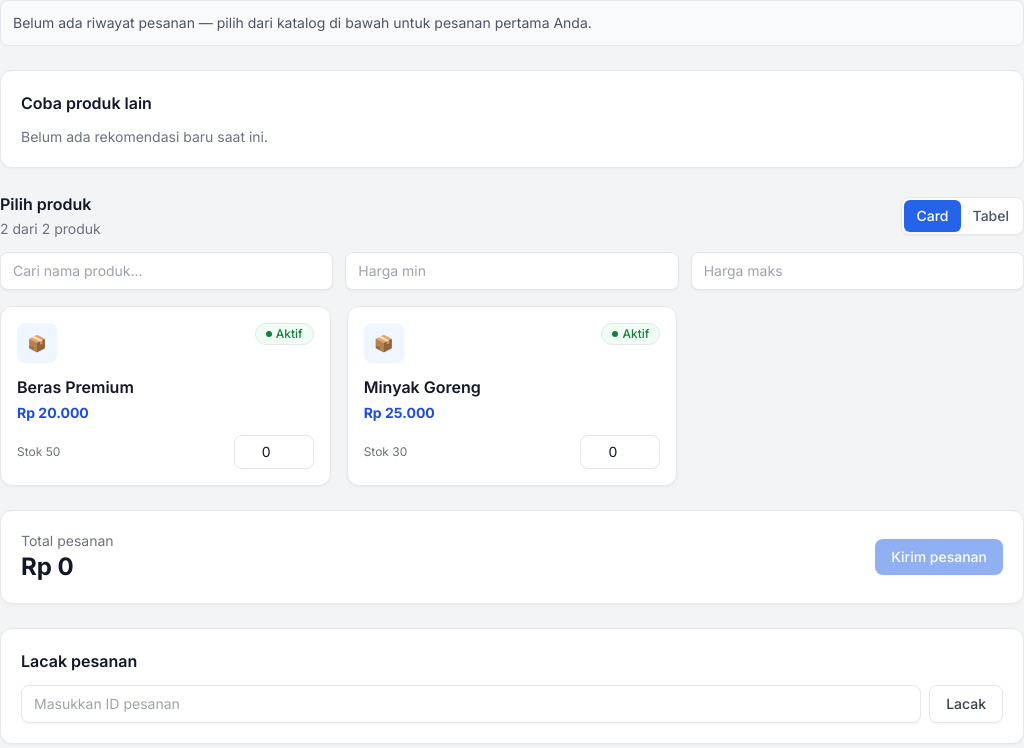
Test case: OrderForm — online submission idempotency contract › submits with the shared idempotency key derived from canonical signature
The width and height of the screenshot is (1024, 748).
Replace the text in the number field named "Jumlah Beras Premium" with "2" at (274, 452), box [234,435,314,469]
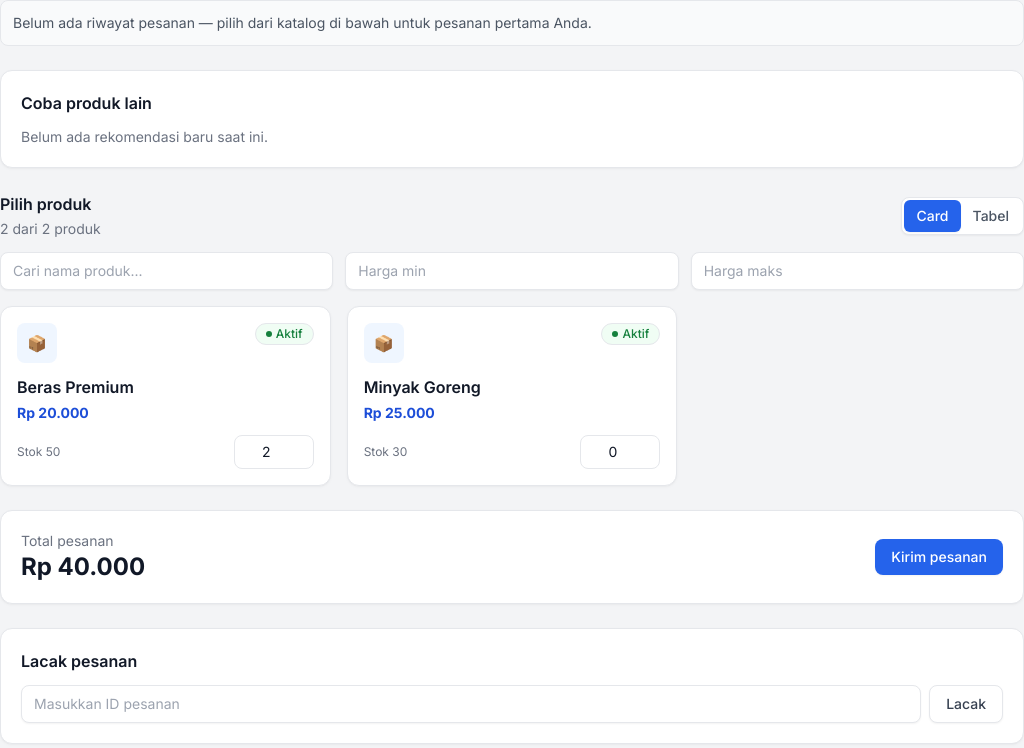
Replace the text in the number field named "Jumlah Minyak Goreng" with "1" at (620, 452), box [580,435,660,469]
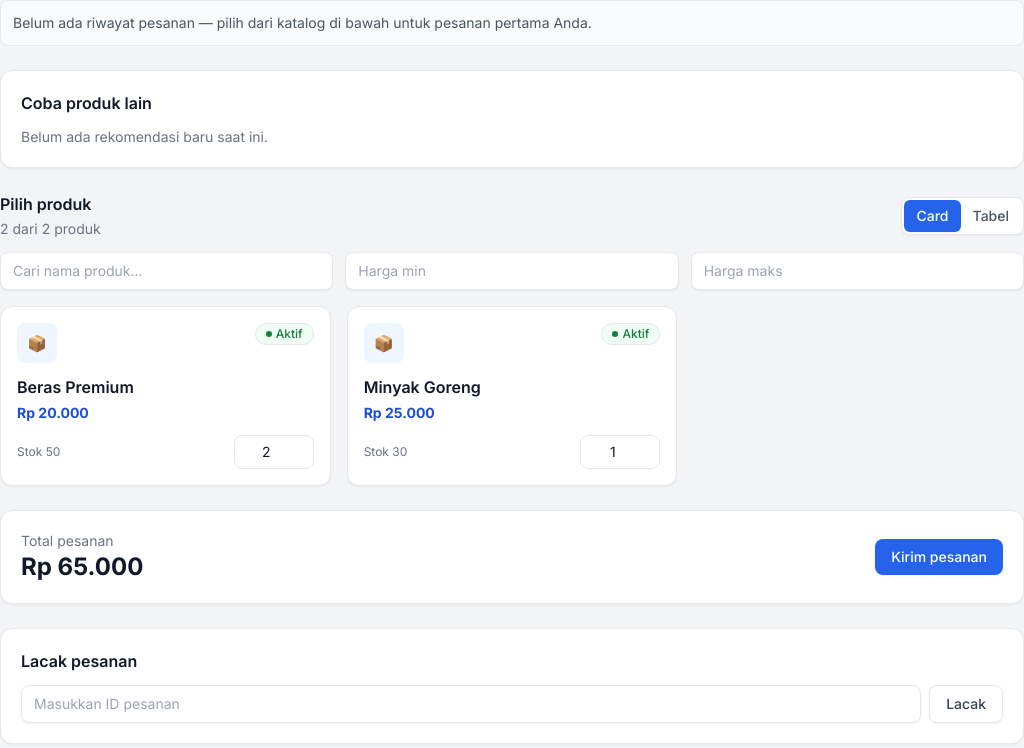
Click the button "Kirim pesanan".
click(939, 557)  # box [875,539,1003,575]
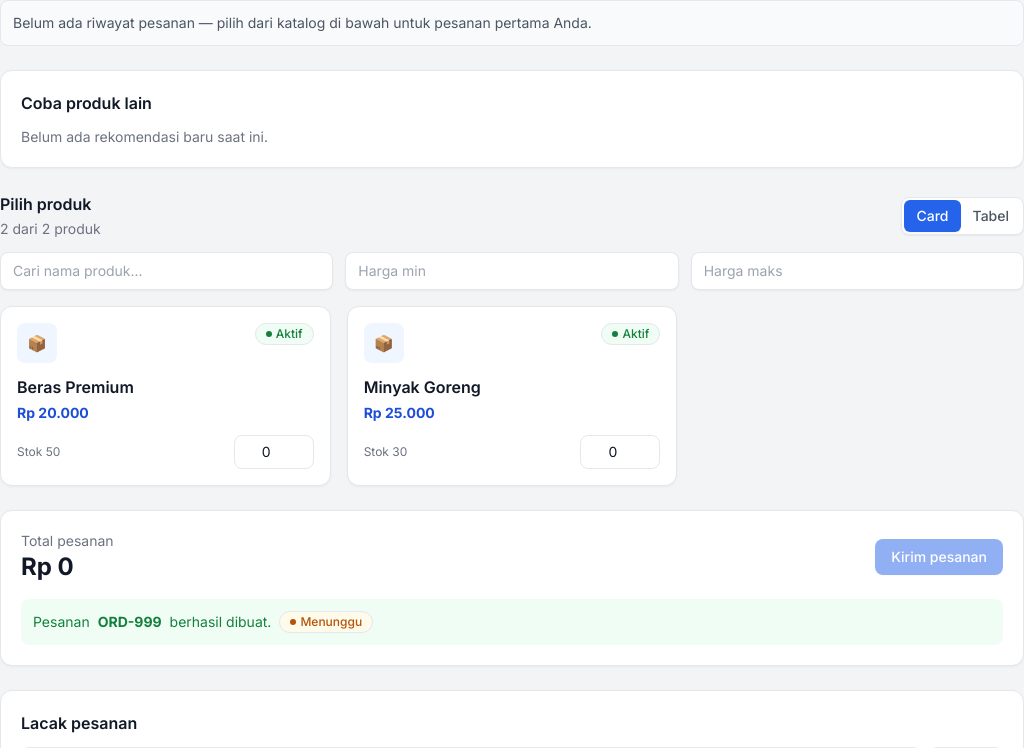
Expected: the text "ORD-999" is shown, [98,612,162,632]
